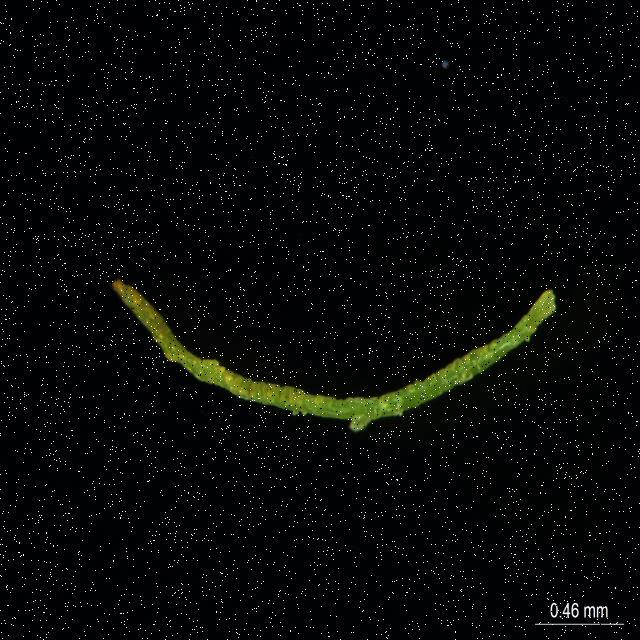fibers: (108, 280, 557, 437)
